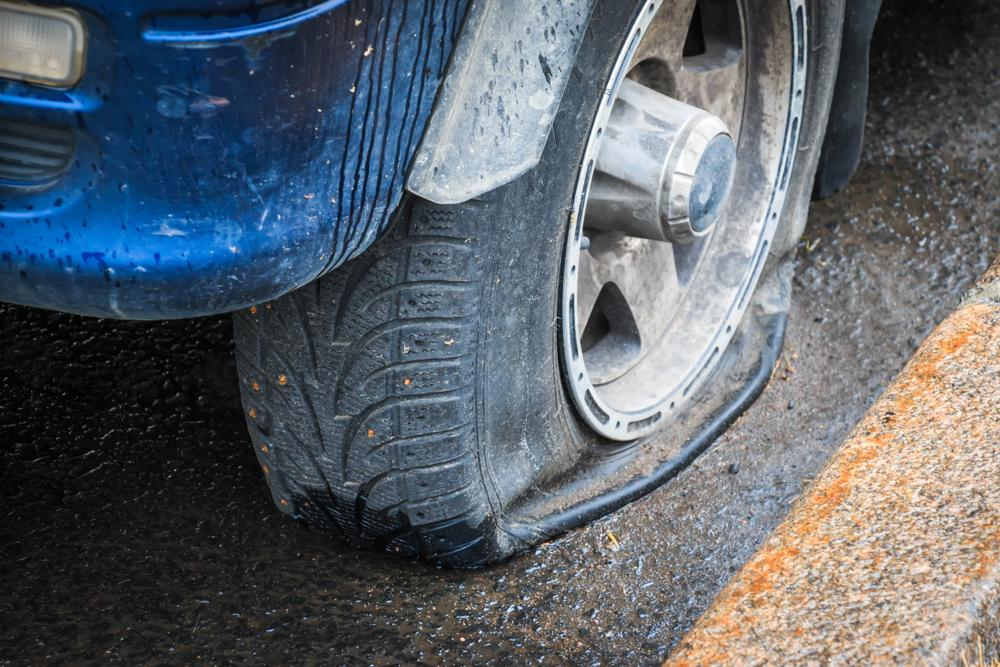tire flat: (232, 0, 846, 560)
